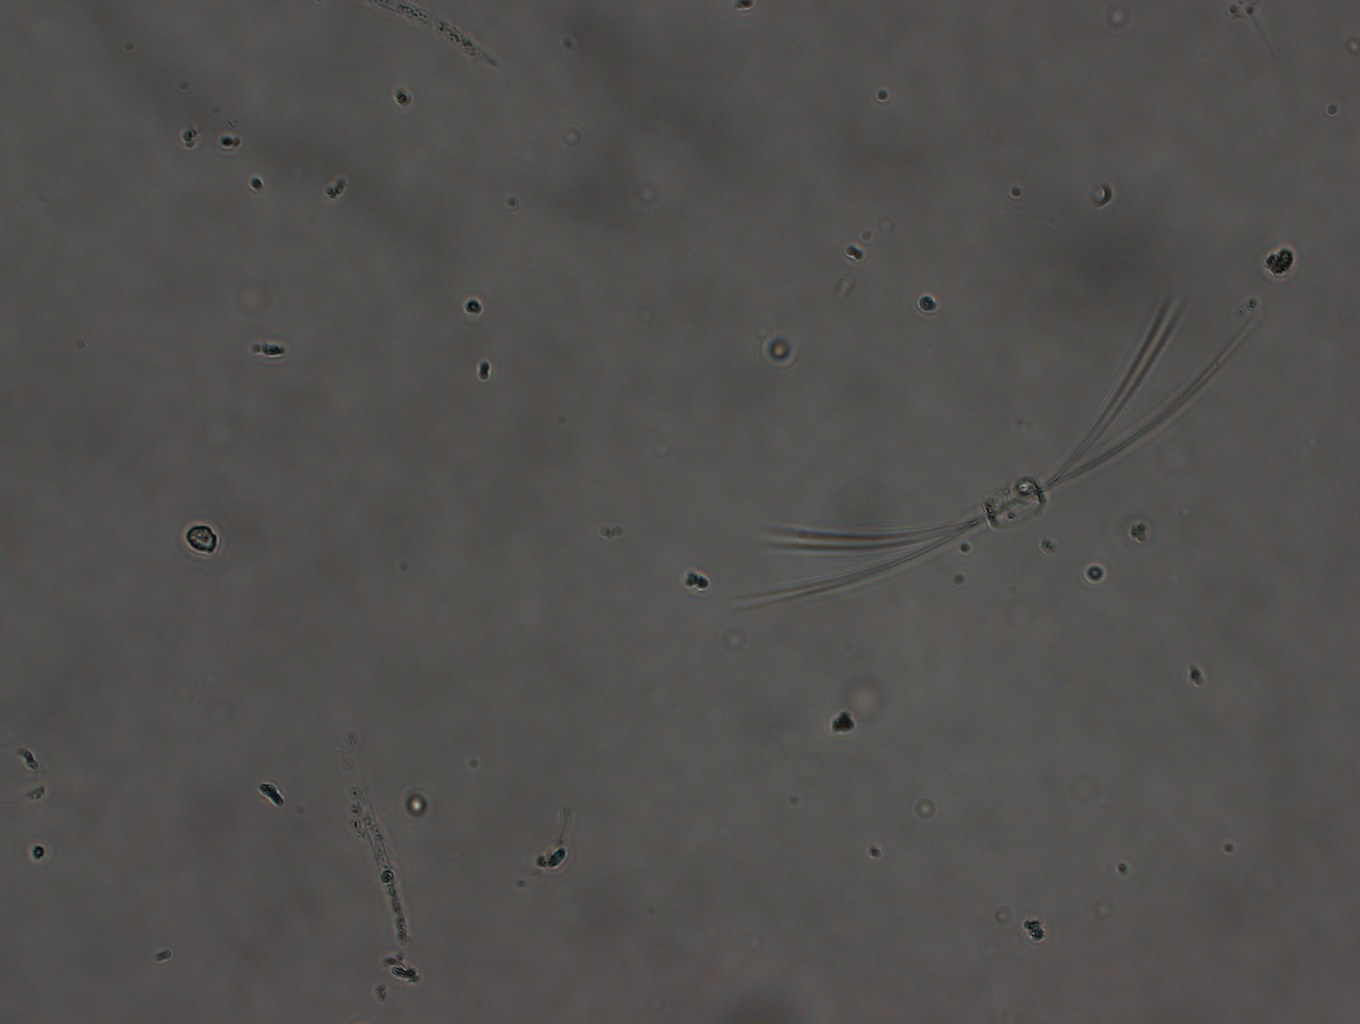chaetoceros: (712, 247, 1274, 618)
